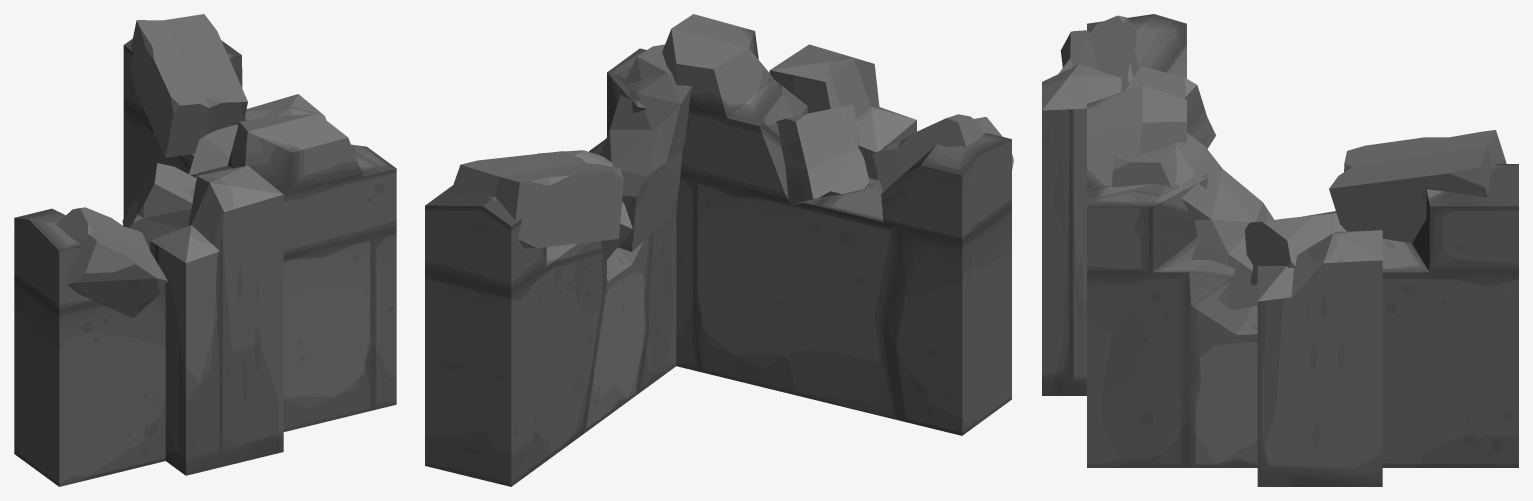
File: SM_Bld_Wall_L_Corner_Damaged_01.fbx
3 views of the same model, side by side, from view 1: azimuth 30°, elevation 25°; view 2: azimuth 150°, elevation 25°; view 3: azimuth 270°, elevation 25° (orthographic). The views are drawn at different scales.
Parts seen in each view (by area): view 1: SM_Bld_Wall_L_Corner_Damaged_01; view 2: SM_Bld_Wall_L_Corner_Damaged_01; view 3: SM_Bld_Wall_L_Corner_Damaged_01.
Boxes of the visible parts, x1,y1,x2,y2 form: SM_Bld_Wall_L_Corner_Damaged_01: (14,14,396,486); SM_Bld_Wall_L_Corner_Damaged_01: (425,14,1013,486); SM_Bld_Wall_L_Corner_Damaged_01: (1042,14,1518,486).
Size of the model in its own units: 327 by 239 by 327.
Materials: 3 (3 with a texture image).
